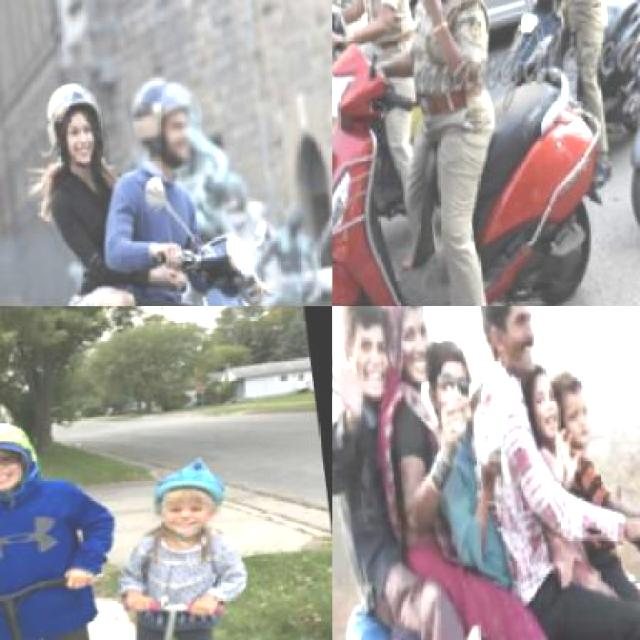With Helmet: (125, 64, 208, 173), (41, 78, 107, 172)
Without Helmet: (463, 306, 554, 397), (332, 306, 397, 408), (418, 332, 474, 434), (150, 448, 225, 520), (378, 306, 438, 392), (518, 357, 564, 448), (550, 358, 595, 447), (0, 412, 40, 488)
